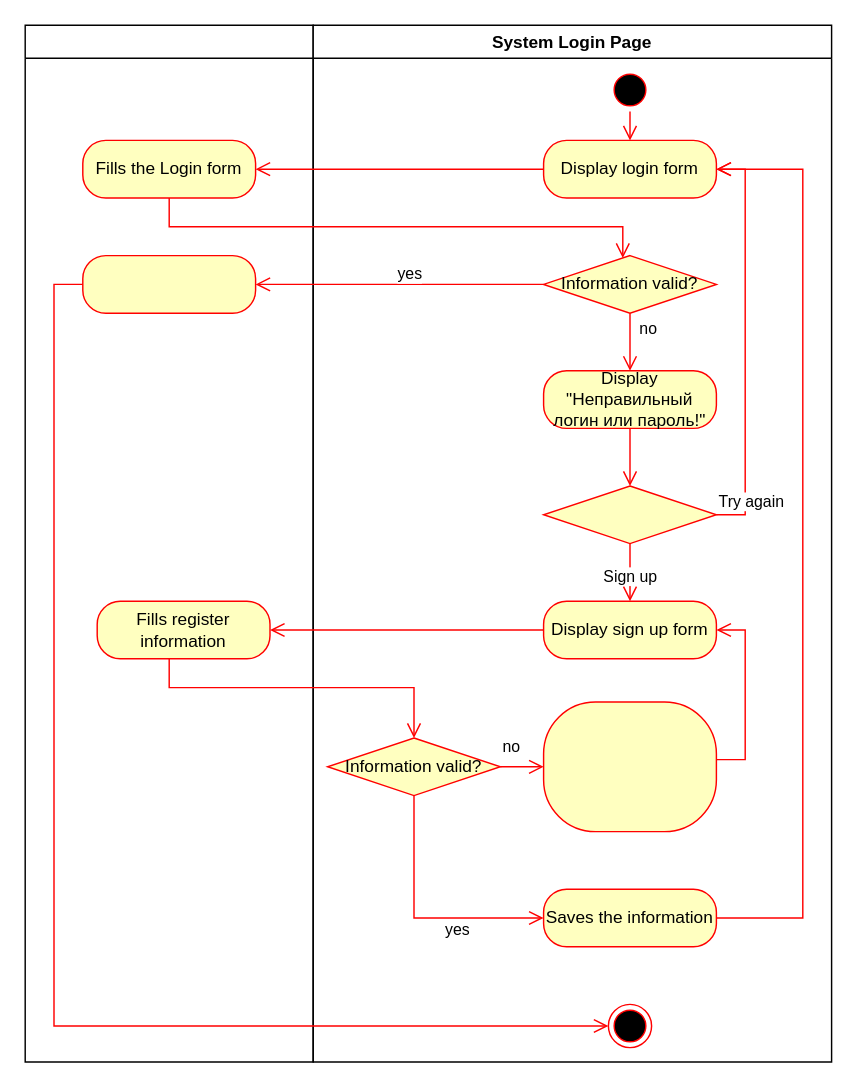
The diagram is 857 pixels wide and 1087 high, and some of its shapes have lost their labels. The box of each missing label's shape, as (x1, y1, x2, y2) in pixels:
Display "Пользователь уже существует" or display "Пароли не совпадают": (542, 701, 716, 832)
Proceeds to transaction: (81, 254, 256, 313)
Try again or sign up: (542, 485, 716, 544)
User: (24, 24, 313, 1062)
